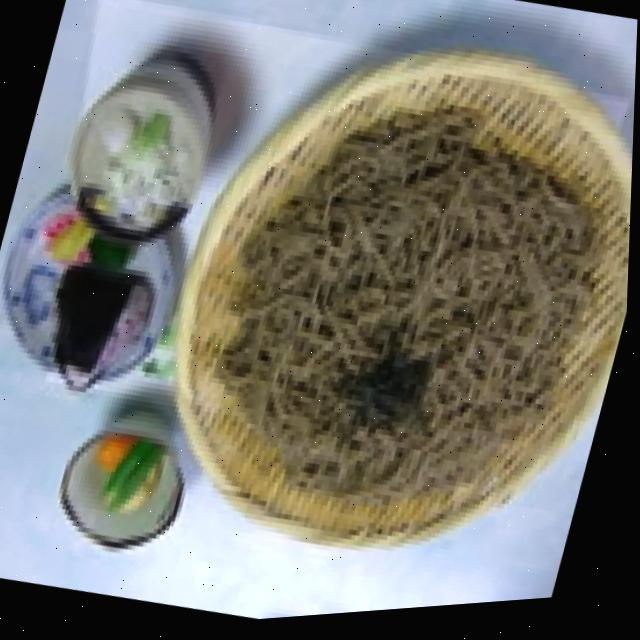面条主食: (118, 0, 640, 630)
